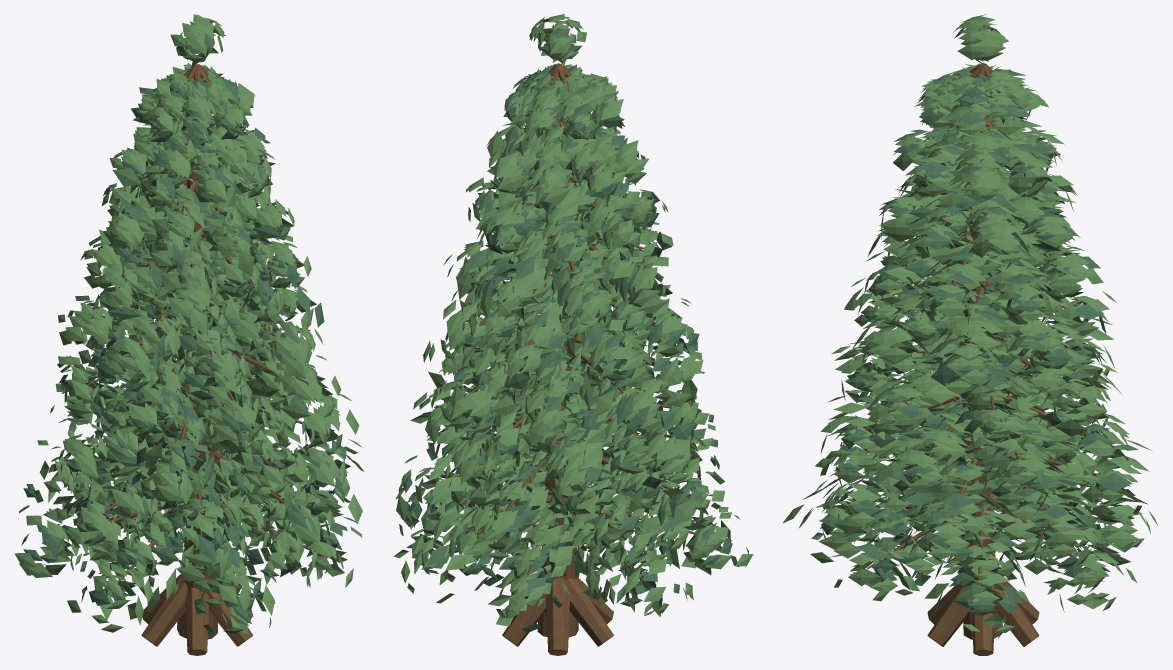
Rendered from spruce.glb.
The picture shows the model from 3 angles, left to right: view 1: azimuth 30°, elevation 25°; view 2: azimuth 150°, elevation 25°; view 3: azimuth 270°, elevation 25°; orthographic projection.
Parts seen in each view (by area): view 1: Layered needle sprays.001, Layered needle sprays, Grounded buttress roots, Conifer bough, Conifer crown.001, Tapered curved trunk; view 2: Layered needle sprays.001, Layered needle sprays, Grounded buttress roots, Conifer bough, Conifer crown.001, Tapered curved trunk; view 3: Layered needle sprays.001, Layered needle sprays, Grounded buttress roots, Conifer bough, Conifer crown.001, Tapered curved trunk.
Boxes of the visible parts, x1,y1,x2,y2 form: Layered needle sprays.001: (14, 63, 364, 633); Layered needle sprays: (23, 64, 359, 635); Grounded buttress roots: (141, 574, 252, 655); Conifer bough: (86, 64, 327, 593); Conifer crown.001: (170, 14, 225, 66); Tapered curved trunk: (177, 143, 218, 639); Layered needle sprays.001: (393, 63, 753, 626); Layered needle sprays: (402, 64, 732, 632); Grounded buttress roots: (502, 577, 613, 655); Conifer bough: (433, 63, 695, 582); Conifer crown.001: (529, 14, 586, 65); Tapered curved trunk: (537, 124, 578, 637); Layered needle sprays.001: (782, 63, 1158, 639); Layered needle sprays: (799, 63, 1139, 618); Grounded buttress roots: (927, 581, 1039, 655); Conifer bough: (850, 62, 1098, 584); Conifer crown.001: (953, 14, 1008, 61); Tapered curved trunk: (961, 225, 1002, 639).
Bounding box in the file's own units: 2.76 × 5.27 × 2.91.
Materials: 4 (2 with a texture image).
